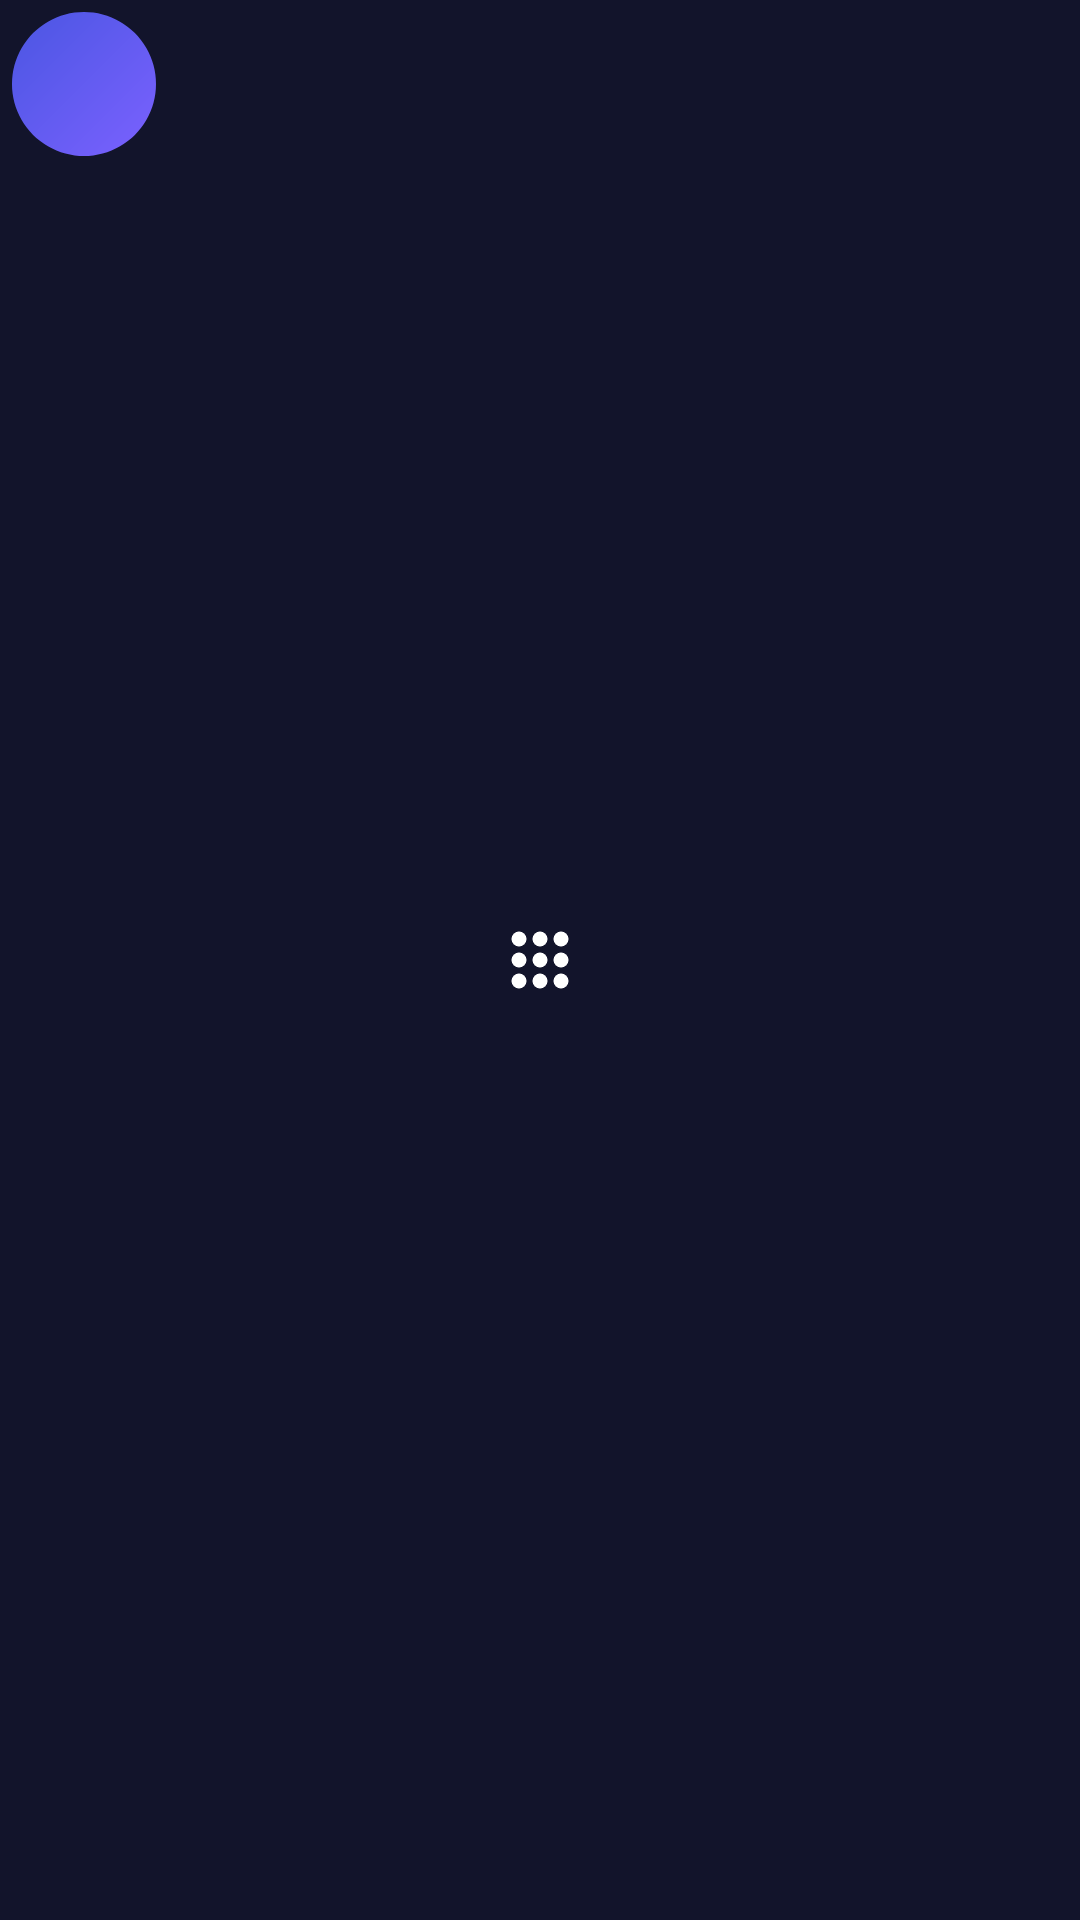

Icon click points for this 1080w x 1920h phone screenshot, format (x,y):
bubble grid: (540,960)
